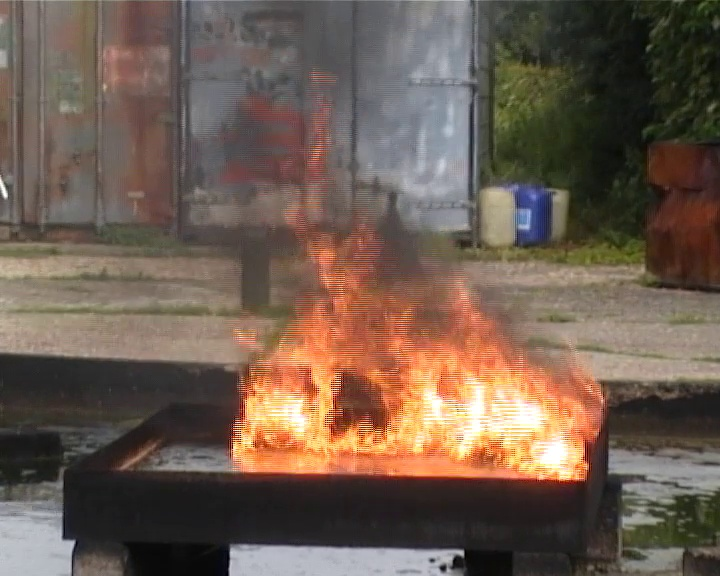fire: (233, 229, 605, 479)
